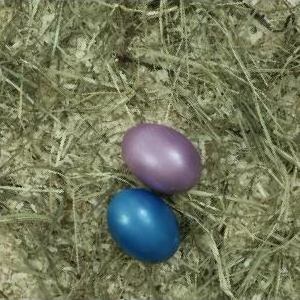egg: (123, 124, 201, 193), (108, 190, 179, 265)
